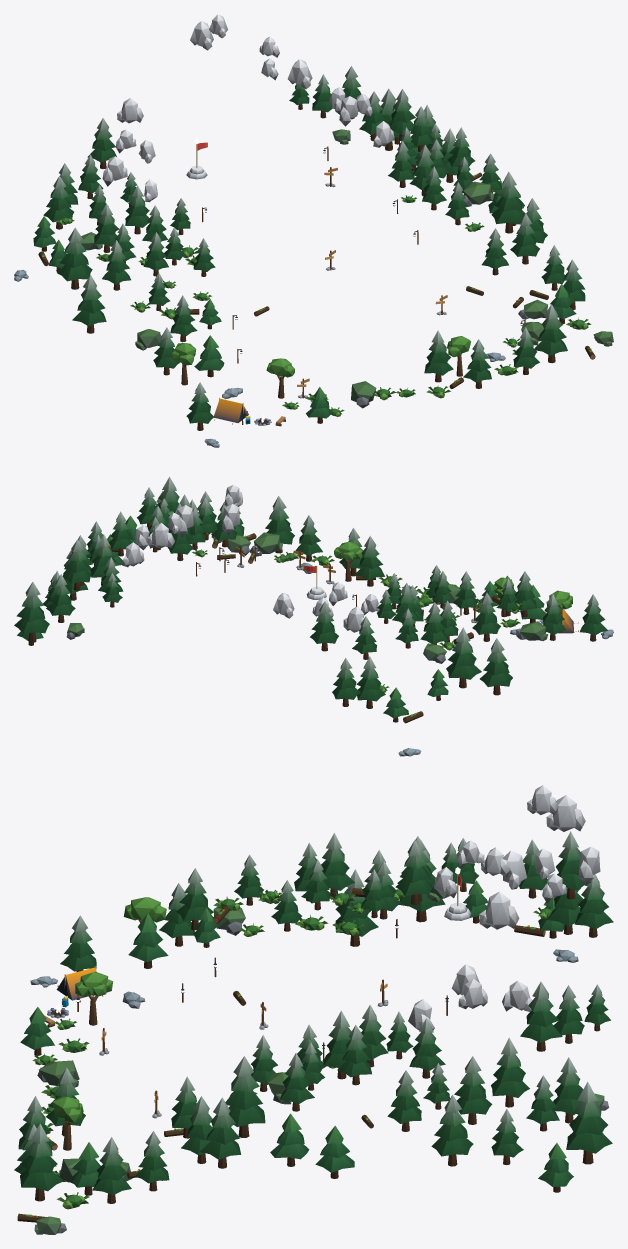
The model's file is mountain_scenery.glb.
The picture shows the model from 3 angles, top to bottom: view 1: azimuth 30°, elevation 25°; view 2: azimuth 150°, elevation 25°; view 3: azimuth 270°, elevation 25°; orthographic projection. The views are drawn at different scales.
Visible parts, largest first — view 1: Tree_34_PineTreeTall, Tree_33_PineTreeTall, Tree_54_PineTreeTall, Tree_14_PineTreeTall, Tree_21_PineTreeTall, Tree_50_PineTreeTall, Tree_32_PineTreeTall, Tree_26_PineTreeTall, Tree_23_PineTreeTall, Tree_36_PineTreeTall, Tree_51_PineTreeTall, Tree_19_PineTreeTall (+14 smaller); view 2: Tree_61_PineTreeTall, Tree_34_PineTreeTall, Tree_14_PineTreeTall, Tree_21_PineTreeTall, Tree_51_PineTreeTall, Tree_54_PineTreeTall, Tree_50_PineTreeTall, Tree_26_PineTreeTall, Tree_23_PineTreeTall, Tree_60_PineTreeTall, Tree_41_PineTreeTall, Tree_19_PineTreeTall (+26 smaller); view 3: Tree_61_PineTreeTall, Tree_33_PineTreeTall, Tree_54_PineTreeTall, Tree_63_PineTreeTall, Tree_27_PineTreeTall, Tree_46_PineTreeTall, Tree_51_PineTreeTall, Tree_18_PineTreeTall, Tree_24_PineTreeTall, Tree_28_PineTreeTall, Tree_60_PineTreeTall, Tree_41_PineTreeTall (+51 smaller).
Boxes of the visible parts, x1=… form: Tree_34_PineTreeTall: x1=57, y1=227, x2=92, y2=289; Tree_33_PineTreeTall: x1=491, y1=171, x2=524, y2=233; Tree_54_PineTreeTall: x1=534, y1=304, x2=567, y2=363; Tree_14_PineTreeTall: x1=72, y1=275, x2=106, y2=333; Tree_21_PineTreeTall: x1=43, y1=176, x2=73, y2=229; Tree_50_PineTreeTall: x1=424, y1=330, x2=453, y2=382; Tree_32_PineTreeTall: x1=510, y1=213, x2=539, y2=264; Tree_26_PineTreeTall: x1=87, y1=118, x2=116, y2=168; Tree_23_PineTreeTall: x1=102, y1=240, x2=130, y2=290; Tree_36_PineTreeTall: x1=463, y1=339, x2=491, y2=388; Tree_51_PineTreeTall: x1=389, y1=89, x2=415, y2=140; Tree_19_PineTreeTall: x1=186, y1=382, x2=214, y2=430; Tree_61_PineTreeTall: x1=14, y1=582, x2=49, y2=642; Tree_34_PineTreeTall: x1=446, y1=627, x2=481, y2=688; Tree_14_PineTreeTall: x1=480, y1=638, x2=512, y2=695; Tree_21_PineTreeTall: x1=356, y1=656, x2=385, y2=708; Tree_51_PineTreeTall: x1=63, y1=539, x2=90, y2=590; Tree_54_PineTreeTall: x1=265, y1=496, x2=294, y2=553; Tree_50_PineTreeTall: x1=355, y1=536, x2=384, y2=586; Tree_26_PineTreeTall: x1=310, y1=601, x2=338, y2=651; Tree_23_PineTreeTall: x1=472, y1=592, x2=500, y2=641; Tree_60_PineTreeTall: x1=332, y1=658, x2=360, y2=706; Tree_41_PineTreeTall: x1=46, y1=574, x2=75, y2=622; Tree_19_PineTreeTall: x1=580, y1=594, x2=607, y2=641; Tree_61_PineTreeTall: x1=566, y1=1081, x2=612, y2=1164; Tree_33_PineTreeTall: x1=225, y1=1056, x2=265, y2=1137; Tree_54_PineTreeTall: x1=20, y1=1123, x2=63, y2=1201; Tree_63_PineTreeTall: x1=431, y1=1094, x2=473, y2=1166; Tree_27_PineTreeTall: x1=200, y1=1097, x2=240, y2=1168; Tree_46_PineTreeTall: x1=520, y1=981, x2=562, y2=1051; Tree_51_PineTreeTall: x1=491, y1=1037, x2=529, y2=1107; Tree_18_PineTreeTall: x1=454, y1=1056, x2=492, y2=1124; Tree_24_PineTreeTall: x1=92, y1=1137, x2=131, y2=1203; Tree_28_PineTreeTall: x1=395, y1=840, x2=432, y2=905; Tree_60_PineTreeTall: x1=574, y1=874, x2=613, y2=937; Tree_41_PineTreeTall: x1=553, y1=1057, x2=583, y2=1123.
Size of the model in its own units: 35.12 by 19.48 by 32.
